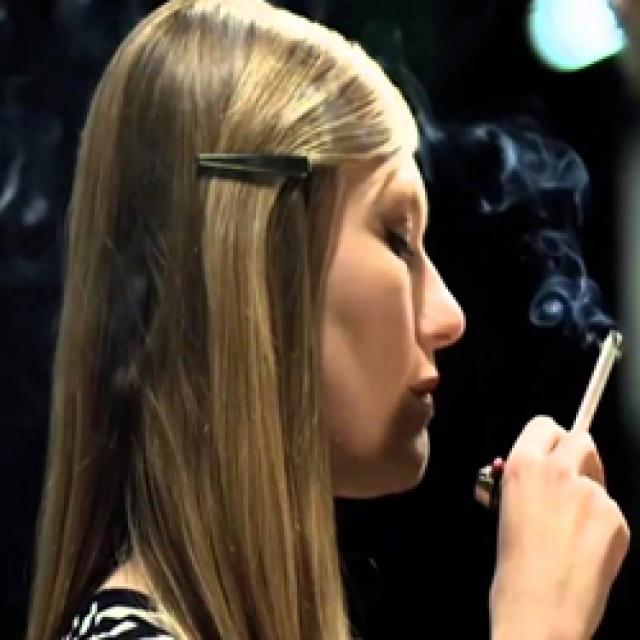Smooking: (571, 313, 629, 436)
